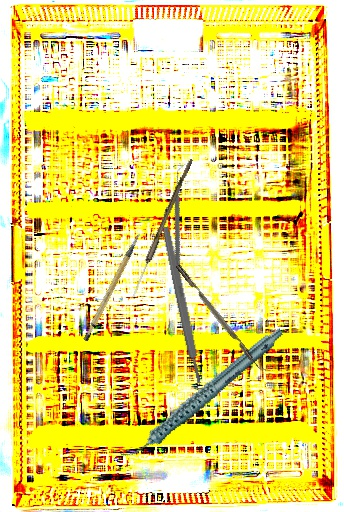Chopper: (118, 163, 245, 300), (175, 260, 270, 376)
Handpiece: (101, 327, 303, 462)
Scalpel Handle: (69, 232, 158, 343), (160, 225, 204, 385)
Surgical Spoon: (129, 157, 194, 300)
